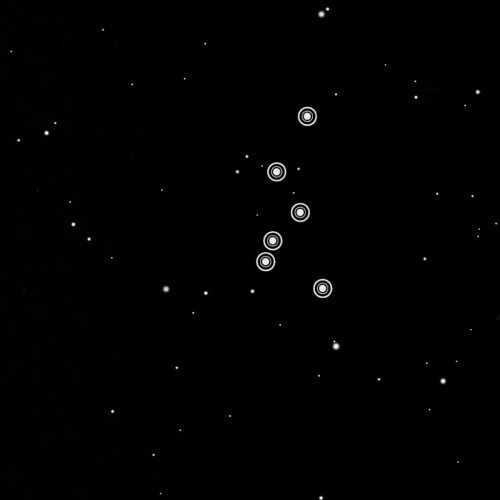cassiopeia: (252, 104, 335, 304)
